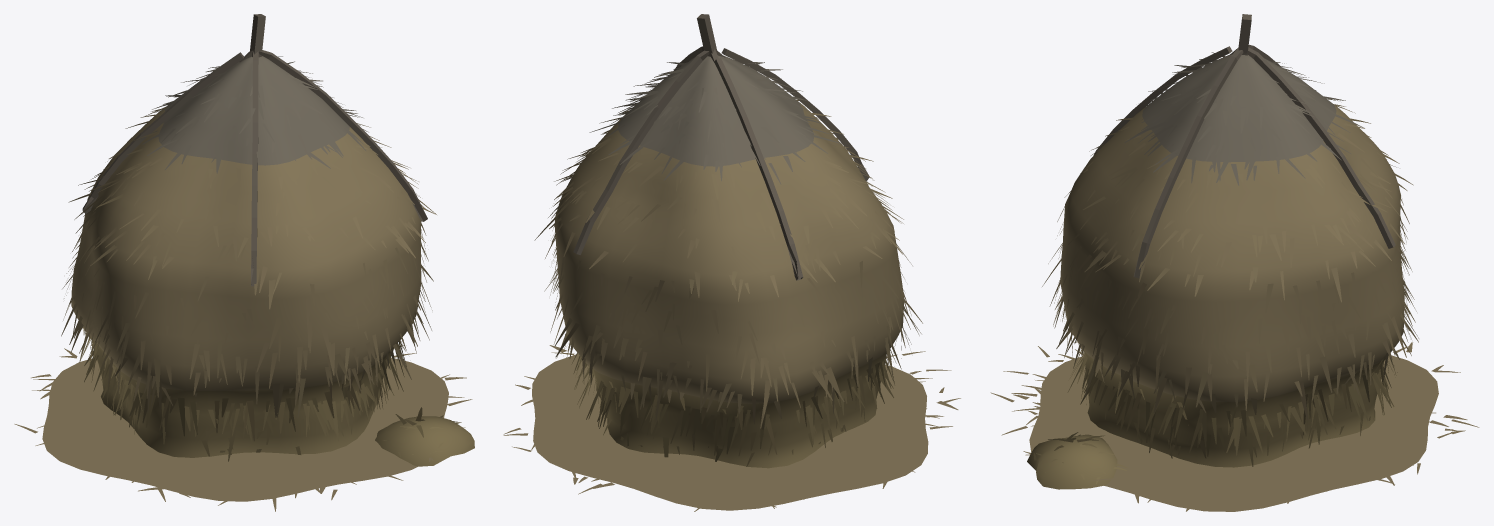
Rendered from lees_place_haystack_1812_c__lees_place_1812.glb.
3 views of the same model, side by side, from view 1: azimuth 30°, elevation 25°; view 2: azimuth 150°, elevation 25°; view 3: azimuth 270°, elevation 25° (orthographic). The views are drawn at different scales.
Parts seen in each view (by area): view 1: lees_place_haystack_1812_c__lees_place_1812; view 2: lees_place_haystack_1812_c__lees_place_1812; view 3: lees_place_haystack_1812_c__lees_place_1812.
Boxes of the visible parts, x1,y1,x2,y2 form: lees_place_haystack_1812_c__lees_place_1812: [14, 14, 474, 511]; lees_place_haystack_1812_c__lees_place_1812: [503, 14, 960, 511]; lees_place_haystack_1812_c__lees_place_1812: [990, 14, 1479, 511].
Size of the model in its own units: 5.28 by 5.13 by 5.41.
